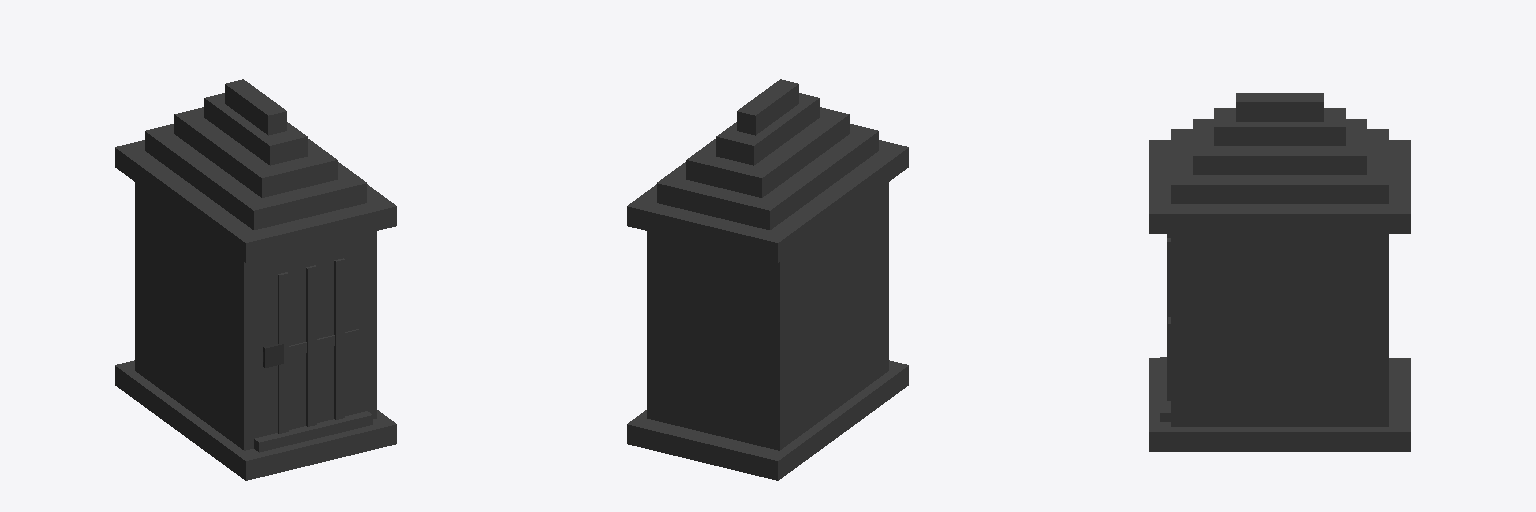
File: crypt.obj
3 renders of one model, left to right at view 1: azimuth 30°, elevation 25°; view 2: azimuth 150°, elevation 25°; view 3: azimuth 270°, elevation 25°, orthographic.
Parts seen in each view (by area): view 1: Cube.001, Cube.009, Cube.002, Cube.010, Cube.011, Cube.012, Cube.003, Cube, Cube.007, Cube.004, Cube.006, Cube.008; view 2: Cube.001, Cube.009, Cube.002, Cube.010, Cube.011, Cube.012, Cube.003; view 3: Cube.001, Cube.009, Cube.002, Cube.010, Cube.011, Cube.012, Cube.003, Cube, Cube.004.
Boxes of the visible parts, x1=… form: Cube.001: x1=135, y1=182, x2=376, y2=450; Cube.009: x1=115, y1=140, x2=396, y2=262; Cube.002: x1=115, y1=360, x2=396, y2=480; Cube.010: x1=145, y1=124, x2=366, y2=229; Cube.011: x1=174, y1=107, x2=337, y2=197; Cube.012: x1=204, y1=93, x2=307, y2=165; Cube.003: x1=225, y1=79, x2=286, y2=135; Cube: x1=334, y1=258, x2=344, y2=419; Cube.007: x1=306, y1=265, x2=316, y2=426; Cube.004: x1=254, y1=411, x2=372, y2=452; Cube.006: x1=278, y1=272, x2=288, y2=433; Cube.008: x1=263, y1=329, x2=358, y2=361; Cube.001: x1=647, y1=182, x2=888, y2=450; Cube.009: x1=627, y1=140, x2=908, y2=262; Cube.002: x1=627, y1=360, x2=908, y2=480; Cube.010: x1=657, y1=124, x2=878, y2=229; Cube.011: x1=686, y1=107, x2=849, y2=197; Cube.012: x1=716, y1=93, x2=819, y2=165; Cube.003: x1=737, y1=79, x2=798, y2=135; Cube.001: x1=1171, y1=234, x2=1388, y2=426; Cube.009: x1=1149, y1=140, x2=1410, y2=233; Cube.002: x1=1149, y1=358, x2=1410, y2=451; Cube.010: x1=1171, y1=129, x2=1388, y2=203; Cube.011: x1=1193, y1=119, x2=1366, y2=174; Cube.012: x1=1214, y1=108, x2=1345, y2=145; Cube.003: x1=1236, y1=93, x2=1323, y2=121; Cube: x1=1167, y1=238, x2=1170, y2=400; Cube.004: x1=1160, y1=357, x2=1170, y2=421.
Size of the model in its own units: 4 by 8 by 6.